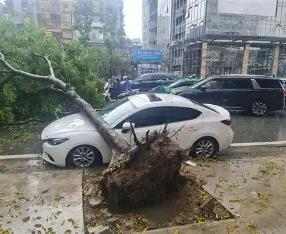ROAD_OBSTACLE: (0, 50, 206, 234)
